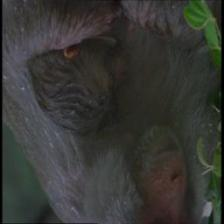monkey: (127, 123, 201, 224), (94, 24, 130, 128)
